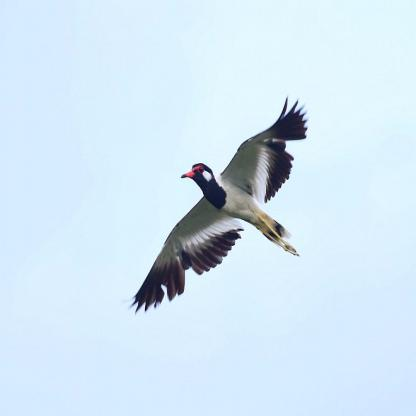Burung: (128, 94, 307, 311)
